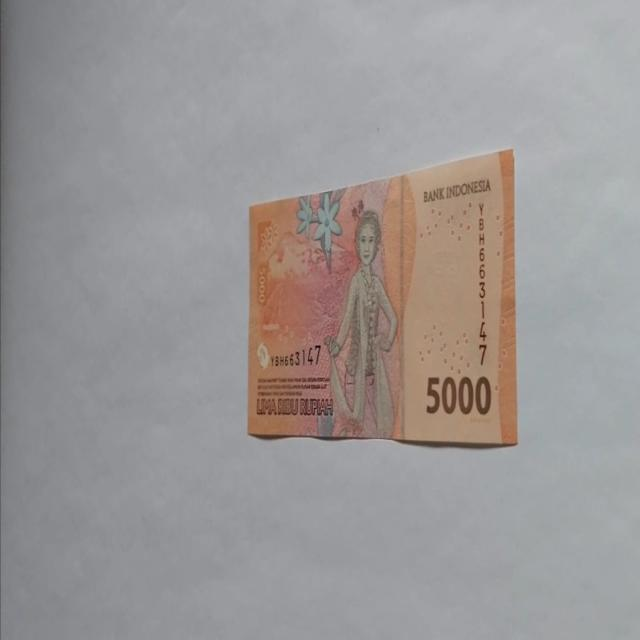lima ribu rupiah: (247, 146, 517, 448), (322, 208, 398, 438)
